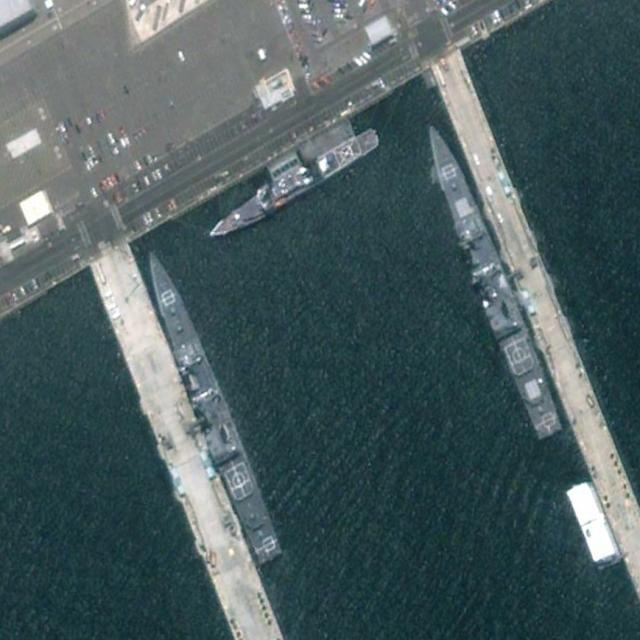Cruiser: (134, 241, 287, 569), (416, 114, 565, 445)
Other Ship: (204, 123, 383, 247)
